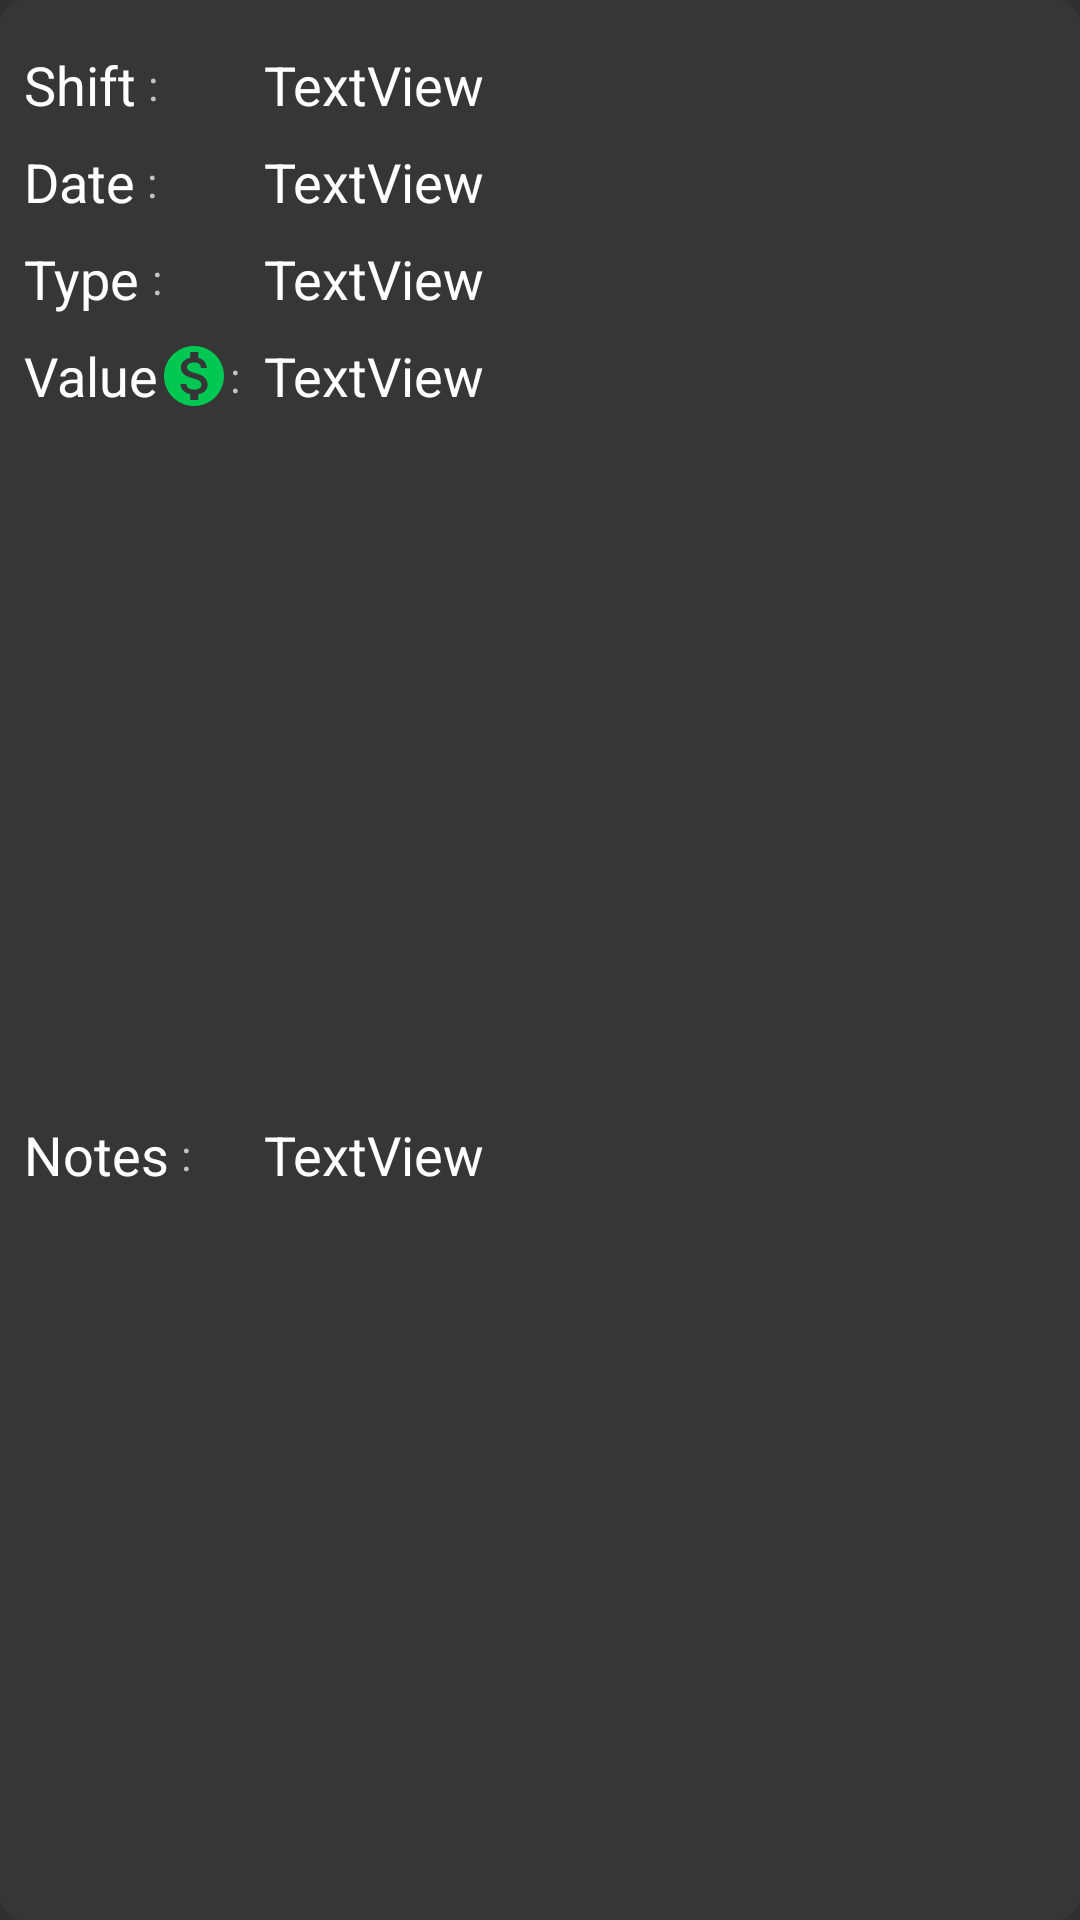

Screen size 1080px×1920px. Icon name, then its box in pixels as BBox(x1, y1, x2, y2):
money: BBox(164, 346, 224, 406)
